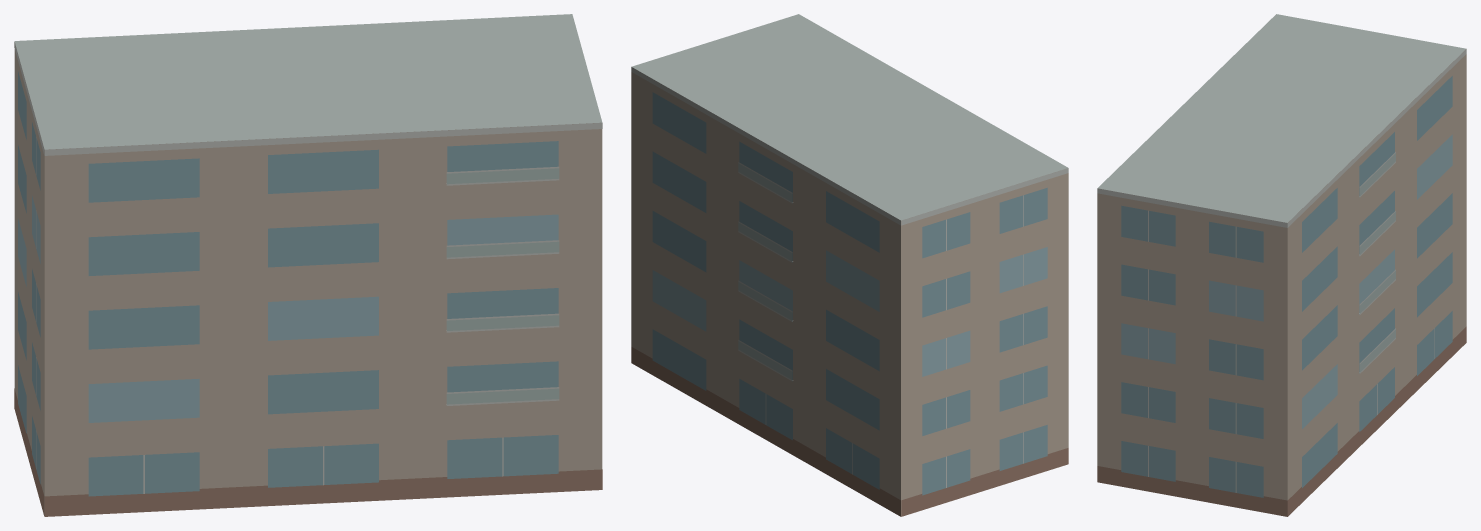
The model's file is survey-upis-32489778.glb.
3 views of the same model, side by side, from view 1: azimuth 30°, elevation 25°; view 2: azimuth 150°, elevation 25°; view 3: azimuth 270°, elevation 25° (orthographic). The views are drawn at different scales.
Parts seen in each view (by area): view 1: survey-upis-32489778.tmp; view 2: survey-upis-32489778.tmp; view 3: survey-upis-32489778.tmp.
Part boxes in pixels (bbox=[...]): survey-upis-32489778.tmp: bbox=[14, 14, 602, 516]; survey-upis-32489778.tmp: bbox=[631, 14, 1068, 516]; survey-upis-32489778.tmp: bbox=[1097, 14, 1466, 516].
Bounding box in the file's own units: 21.66 × 14.2 × 16.18.
